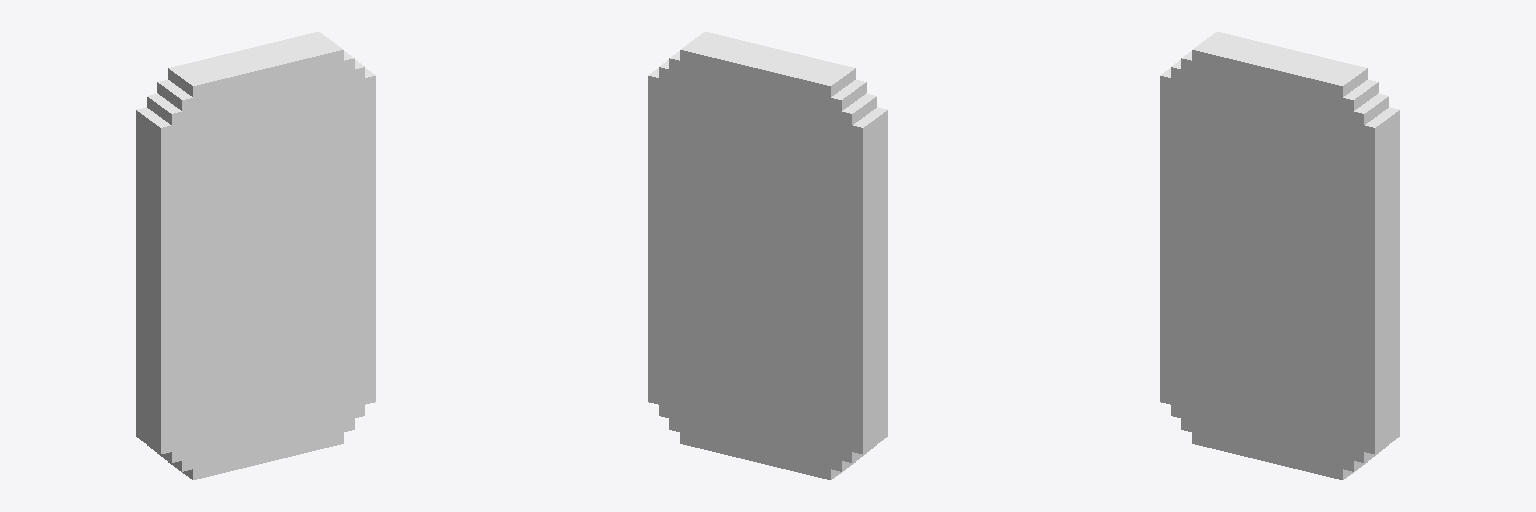
File: Phone-1.obj
3 renders of one model, left to right at view 1: azimuth 30°, elevation 25°; view 2: azimuth 150°, elevation 25°; view 3: azimuth 330°, elevation 25°, orthographic.
Visible parts, largest first — view 1: object 1; view 2: object 1; view 3: object 1.
Part boxes in pixels (bbox=[...]): object 1: bbox=[136, 32, 375, 479]; object 1: bbox=[648, 32, 887, 479]; object 1: bbox=[1160, 32, 1399, 479].
Size of the model in its own units: 2 by 3.5 by 0.4.